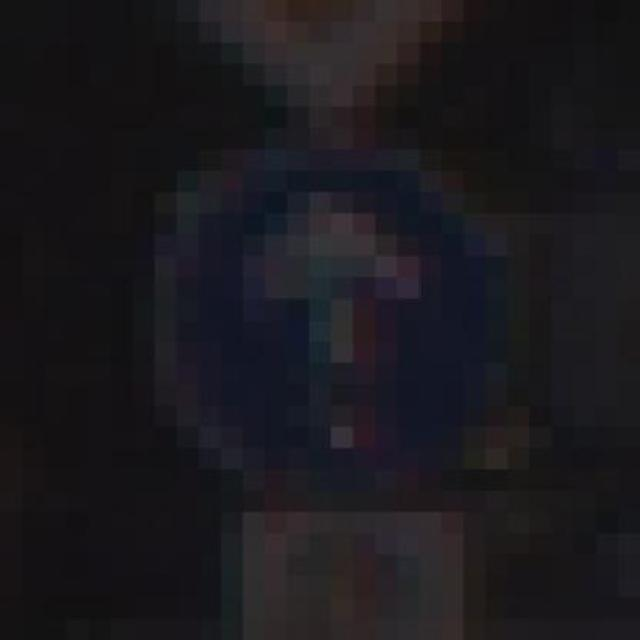Straight Ahead Only: (110, 106, 552, 512)
